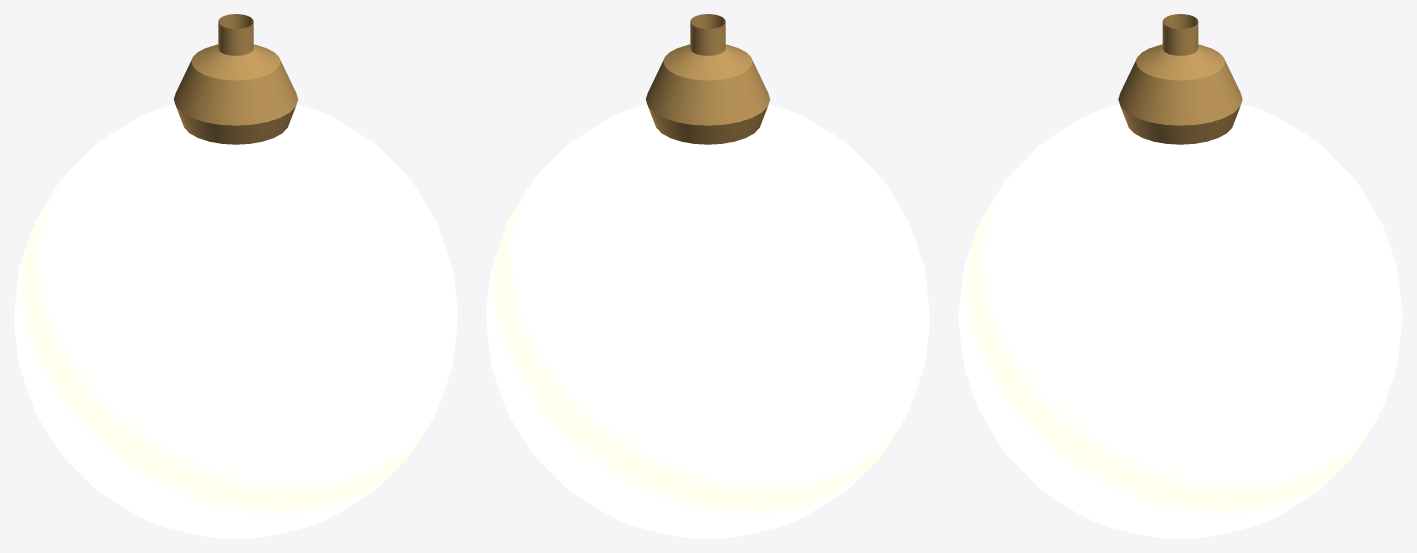
The model's file is globe_brass.glb.
The picture shows the model from 3 angles, left to right: view 1: azimuth 30°, elevation 25°; view 2: azimuth 150°, elevation 25°; view 3: azimuth 270°, elevation 25°; orthographic projection.
Visible parts, largest first — view 1: globe_brass; view 2: globe_brass; view 3: globe_brass.
Part boxes in pixels (left/top/right/bottom): globe_brass: left=14, top=14, right=457, bottom=538; globe_brass: left=486, top=14, right=929, bottom=538; globe_brass: left=958, top=14, right=1402, bottom=538.
Size of the model in its own units: 0.3 by 0.37 by 0.3.
